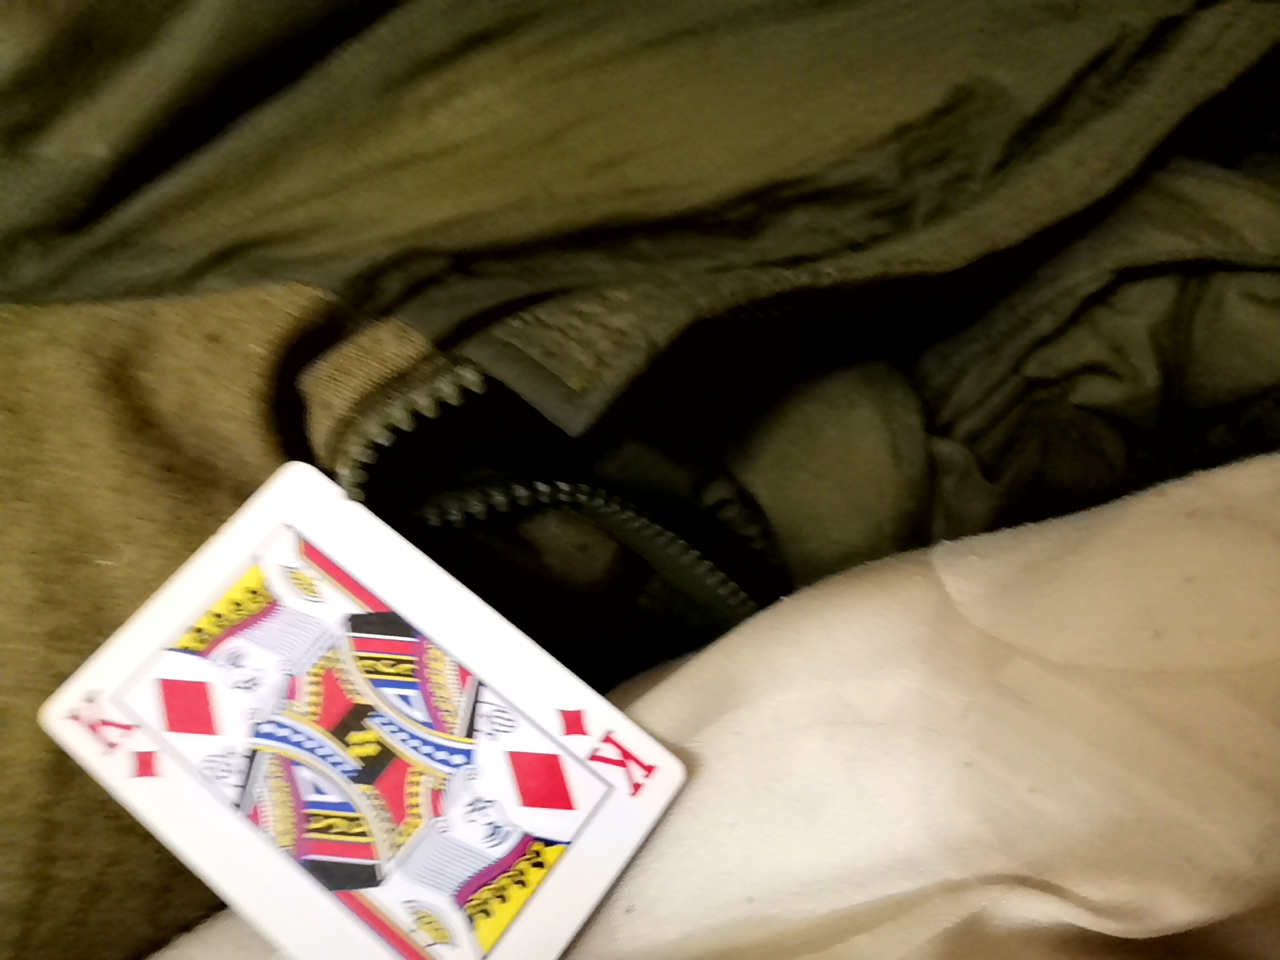fk k: (17, 465, 698, 959)
